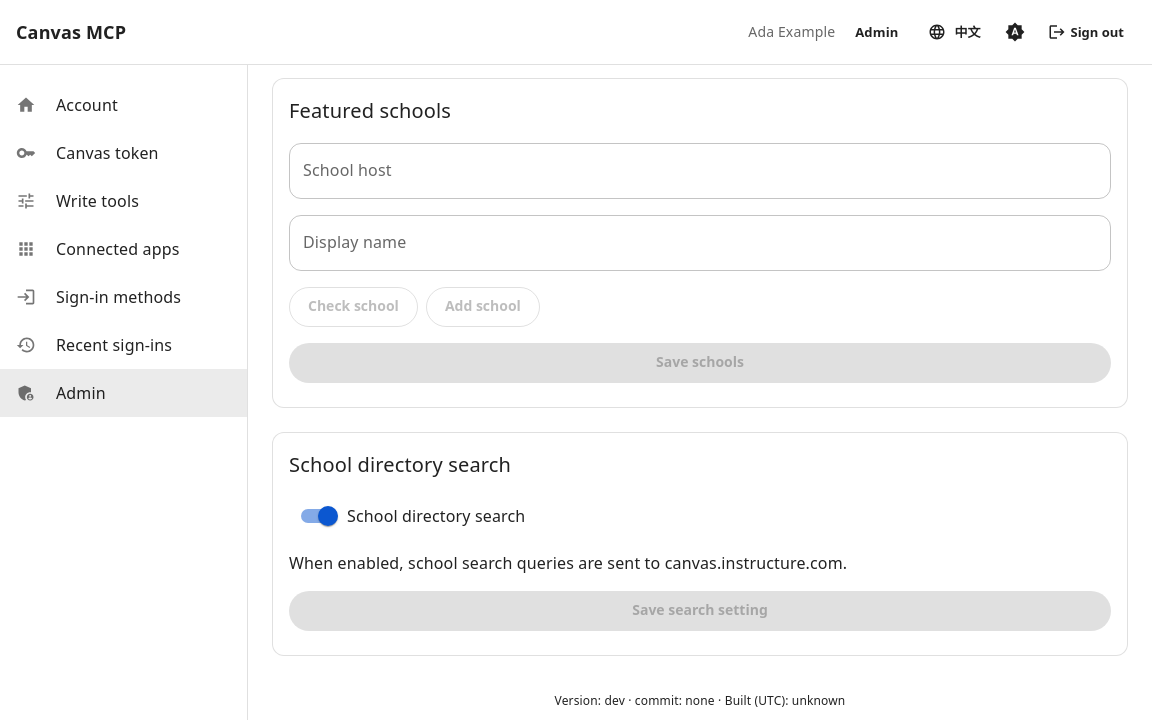
Test case: Database-managed settings › starts with no featured school, saves search off, and shows the empty-school warning
(page scrolled)
Expected: the heading "Featured schools" is shown, [289,97,451,124]
Click the switch labelled "School directory search" at coordinates (413, 516), box [301,505,525,527]
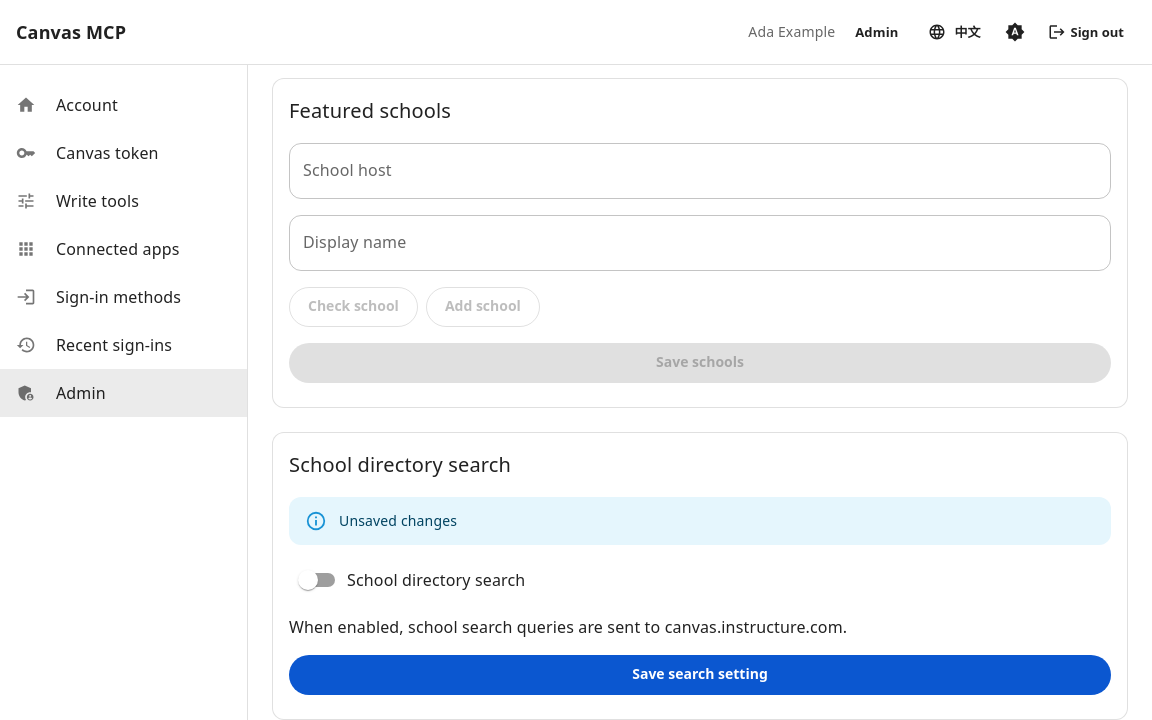
Click the button "Save search setting" at coordinates (700, 675), box [289,655,1111,695]
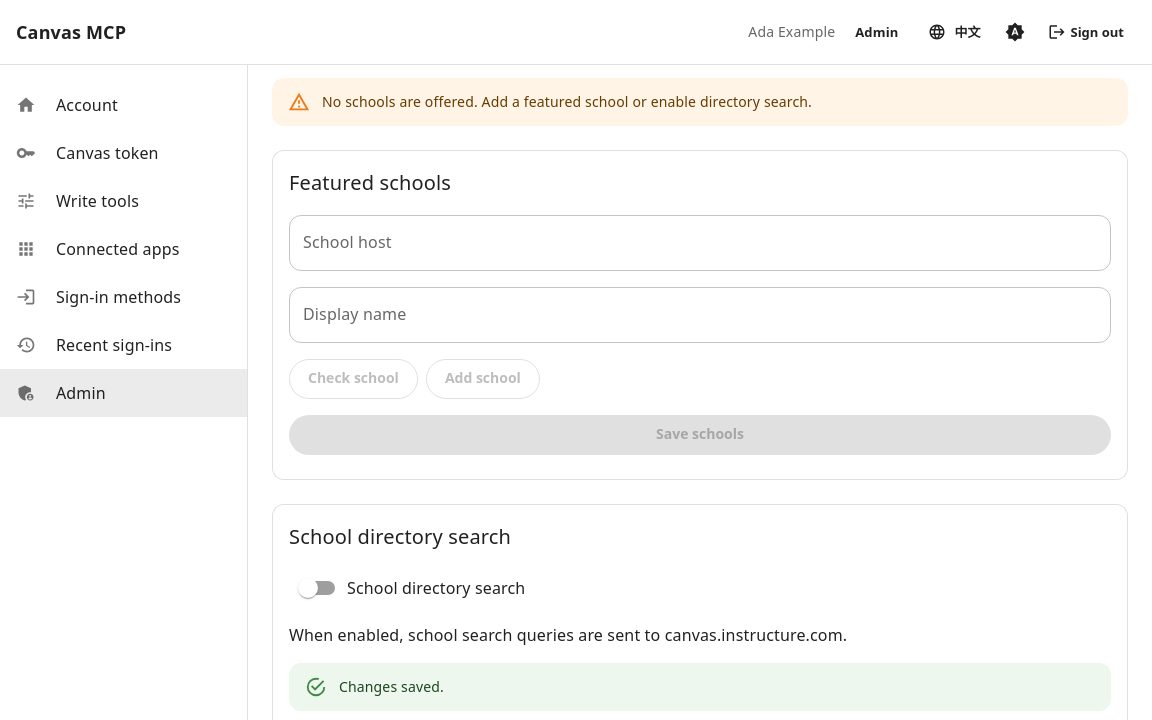
Expected: the switch labelled "School directory search" is not checked, [298,577,525,599]
Expected: the text "No schools are offered. Add a featured school or enable directory search." is shown, [322,92,812,111]
